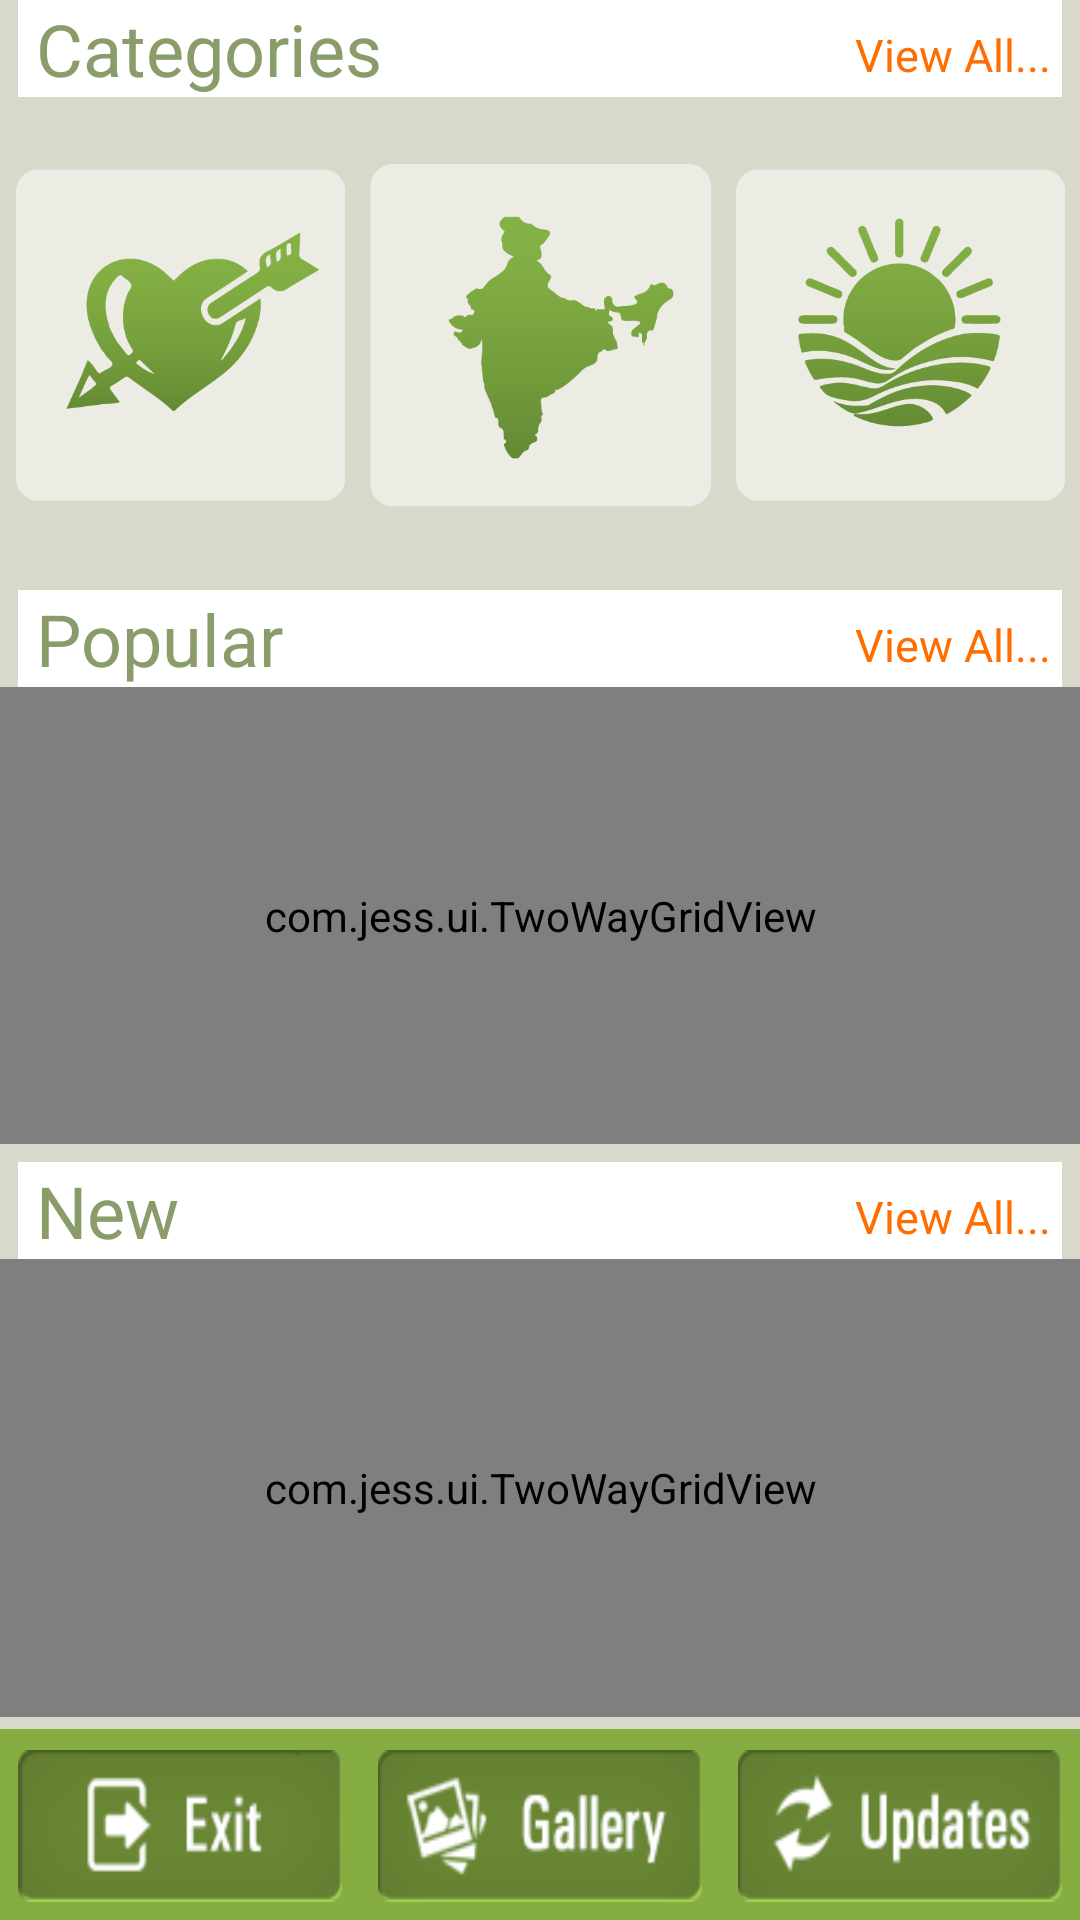

Icons on this 1080*1920 Android screen, each with the point to tap as (x=x, y=y):
cat love: (x=180, y=335)
cat pongal: (x=900, y=335)
cat republic: (x=541, y=335)
